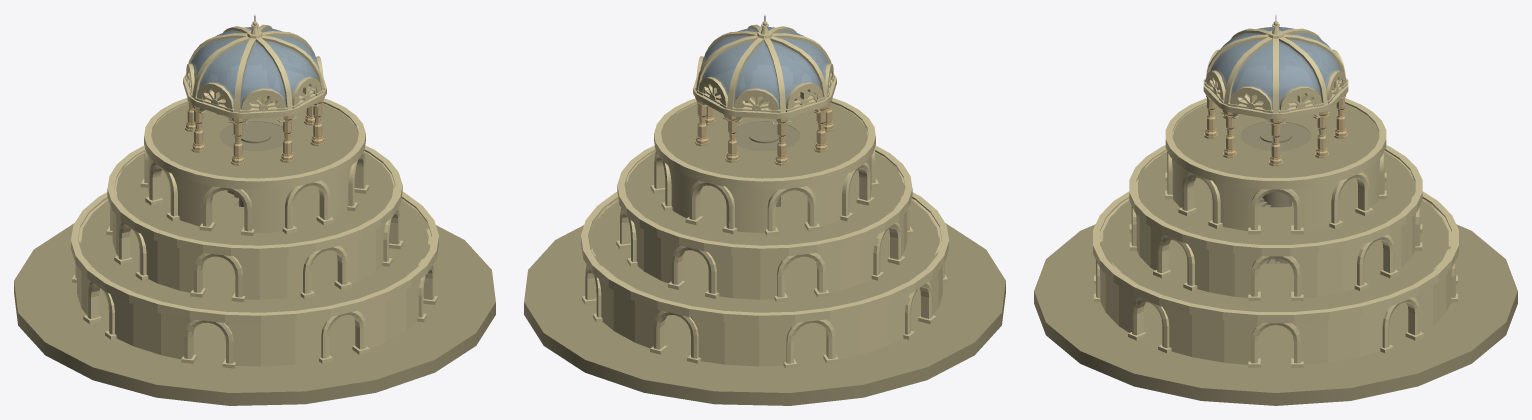
Rendered from TempleBlockout.fbx.
3 views of the same model, side by side, from view 1: azimuth 30°, elevation 25°; view 2: azimuth 150°, elevation 25°; view 3: azimuth 270°, elevation 25° (orthographic).
Parts seen in each view (by area): view 1: pCube11, Bottomfloor, pCylinder84, pCylinder116, StairDisk; view 2: pCube11, Bottomfloor, pCylinder84, pCylinder116, StairDisk; view 3: pCube11, Bottomfloor, pCylinder84, pCylinder116, StairDisk.
Part boxes in pixels (left/top/right/bottom): pCube11: left=140, top=15, right=369, bottom=236; Bottomfloor: left=14, top=223, right=495, bottom=405; pCylinder84: left=71, top=190, right=438, bottom=368; pCylinder116: left=106, top=145, right=403, bottom=302; StairDisk: left=219, top=121, right=284, bottom=151; pCube11: left=650, top=15, right=879, bottom=236; Bottomfloor: left=524, top=223, right=1005, bottom=405; pCylinder84: left=581, top=190, right=948, bottom=368; pCylinder116: left=616, top=145, right=913, bottom=302; StairDisk: left=735, top=121, right=800, bottom=151; pCube11: left=1165, top=15, right=1386, bottom=263; Bottomfloor: left=1034, top=224, right=1517, bottom=405; pCylinder84: left=1093, top=191, right=1458, bottom=367; pCylinder116: left=1129, top=145, right=1422, bottom=300; StairDisk: left=1241, top=122, right=1310, bottom=150.
Bounding box in the file's own units: 34 × 22.47 × 34.
Materials: 6 (1 with a texture image).
